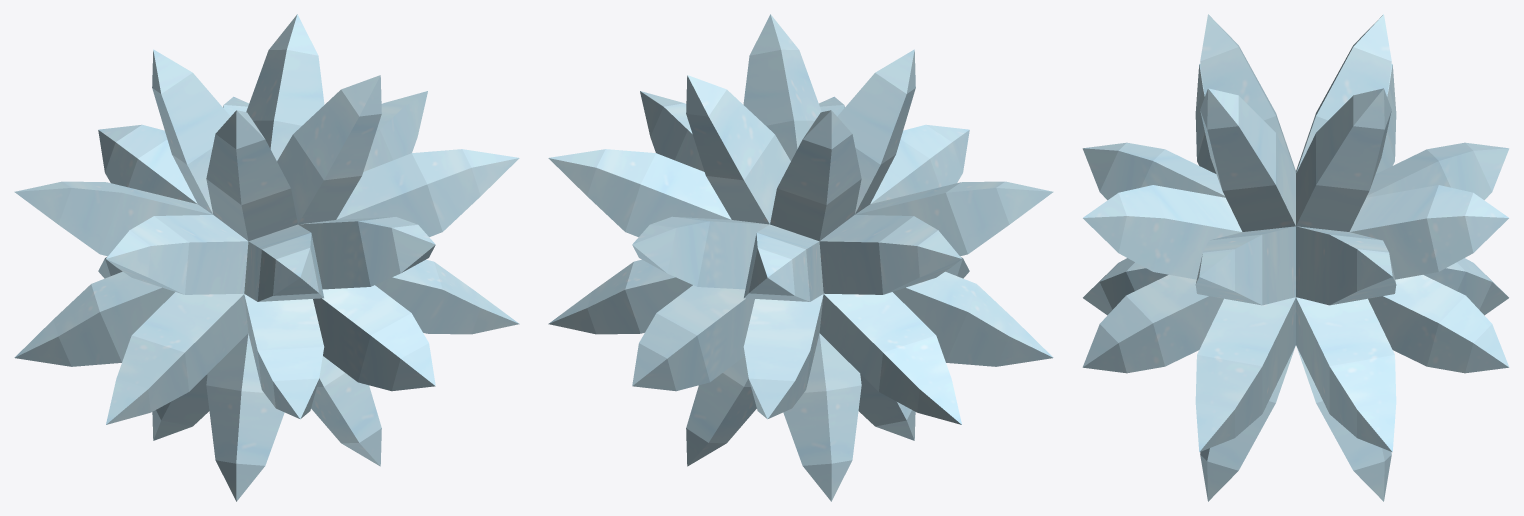
File: ice.fbx
3 renders of one model, left to right at view 1: azimuth 30°, elevation 25°; view 2: azimuth 150°, elevation 25°; view 3: azimuth 270°, elevation 25°, orthographic. The views are drawn at different scales.
Parts seen in each view (by area): view 1: Cube; view 2: Cube; view 3: Cube.
Boxes of the visible parts, bbox=[...] form: Cube: bbox=[14, 14, 519, 501]; Cube: bbox=[548, 14, 1053, 501]; Cube: bbox=[1082, 14, 1509, 501].
Bounding box in the file's own units: 6.12 × 5.54 × 5.18.
Materials: 1 (1 with a texture image).
